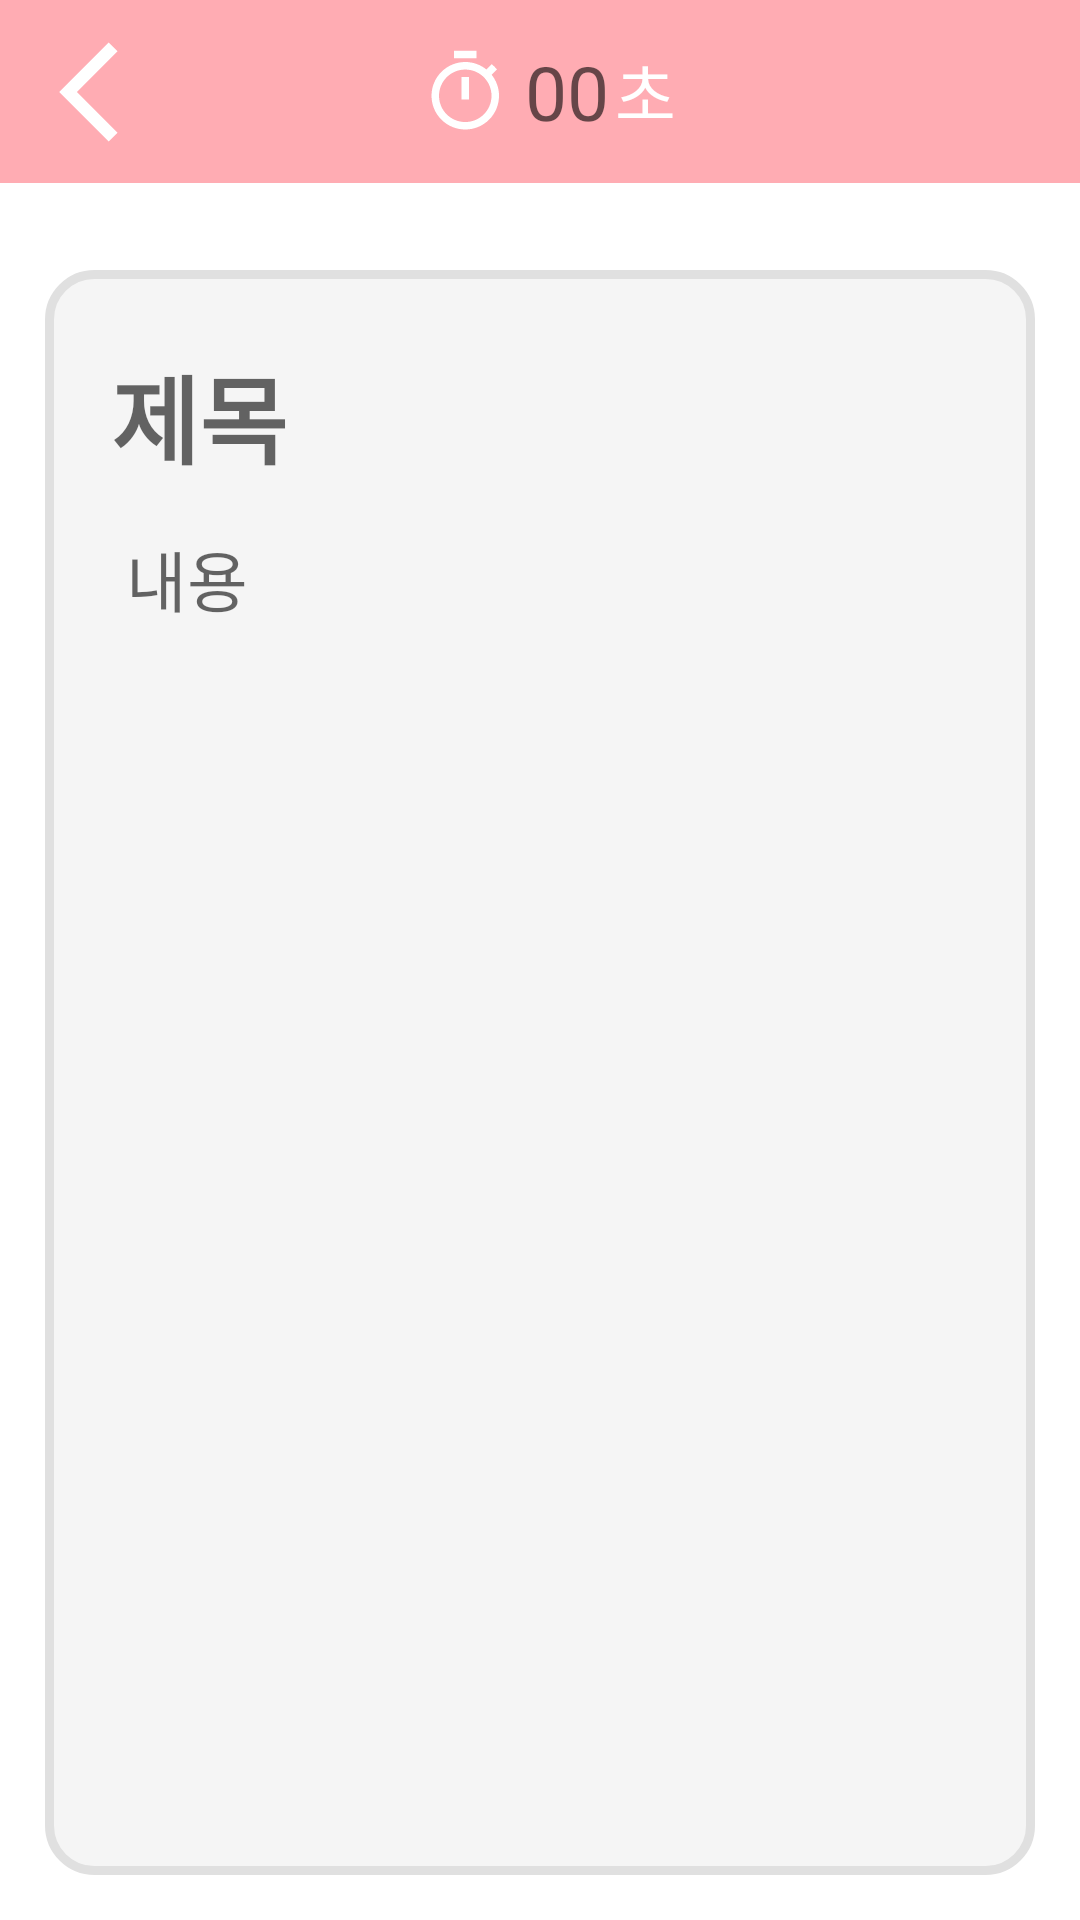

Icons on this 1080×1920 Android screen, each with its box as Rect(x1, y1, x2, y2):
arrow back: Rect(59, 43, 117, 141)
memo write timer: Rect(431, 51, 499, 130)
